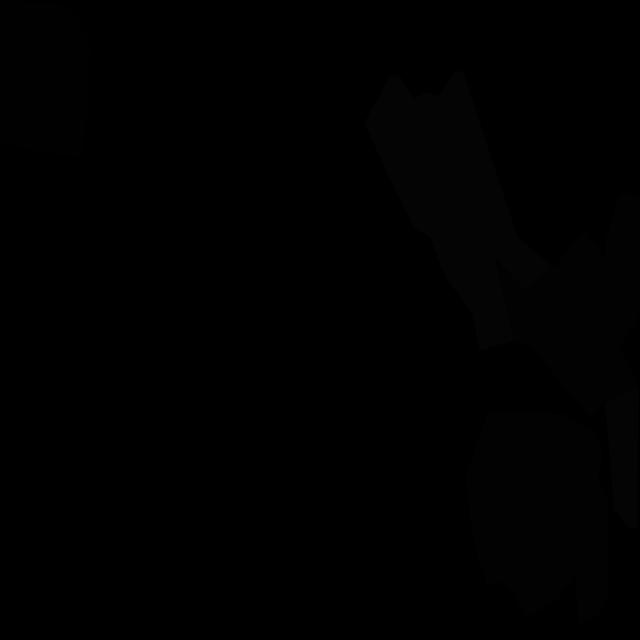cardboard: (466, 410, 609, 624), (495, 227, 640, 417), (604, 193, 640, 316)
soft_plastic: (364, 70, 554, 351), (605, 387, 639, 528)
